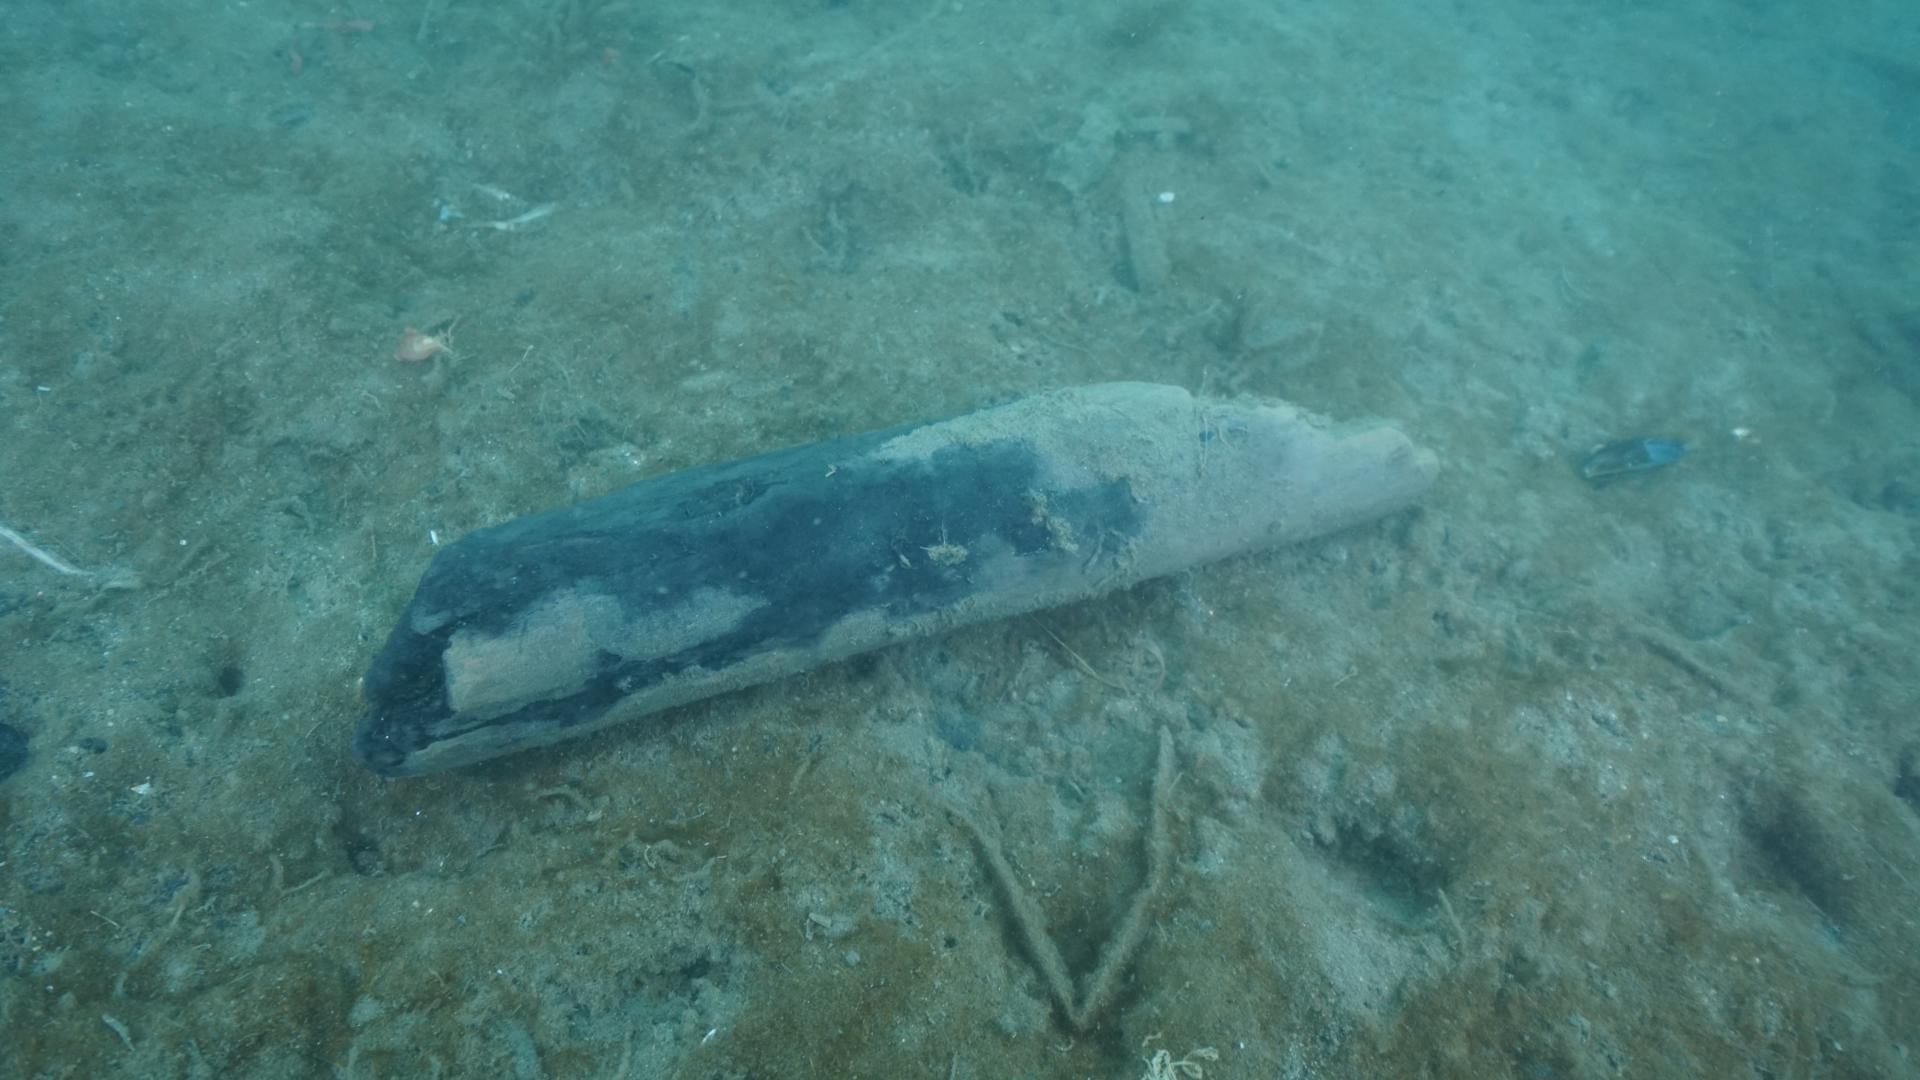wood: (353, 378, 1443, 786)
